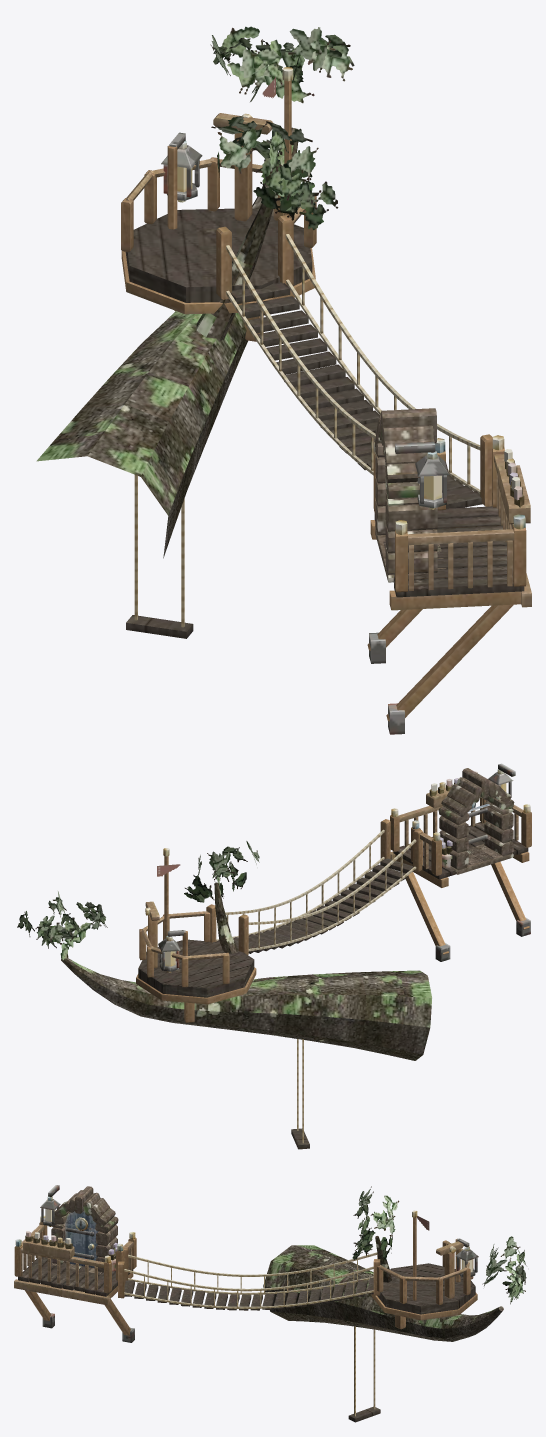
Rendered from balcony.glb.
3 views of the same model, one above another, from view 1: azimuth 30°, elevation 25°; view 2: azimuth 150°, elevation 25°; view 3: azimuth 270°, elevation 25° (orthographic). The views are drawn at different scales.
Parts seen in each view (by area): view 1: tile_wood, tile_bark, solid, card, tile_stone; view 2: tile_wood, tile_bark, solid, tile_stone, card; view 3: tile_wood, tile_bark, solid, card, tile_stone.
Boxes of the visible parts, left/top/right/bottom form: tile_wood: left=121, top=80, right=531, bottom=721; tile_bark: left=36, top=127, right=298, bottom=558; solid: left=134, top=67, right=525, bottom=734; card: left=210, top=26, right=354, bottom=230; tile_stone: left=375, top=408, right=446, bottom=582; tile_wood: left=136, top=788, right=531, bottom=1149; tile_bark: left=61, top=883, right=431, bottom=1060; solid: left=145, top=763, right=530, bottom=1143; tile_stone: left=438, top=768, right=514, bottom=874; card: left=17, top=841, right=259, bottom=960; tile_wood: left=14, top=1217, right=477, bottom=1422; tile_bark: left=263, top=1236, right=503, bottom=1341; solid: left=15, top=1185, right=478, bottom=1416; card: left=352, top=1186, right=526, bottom=1304; tile_stone: left=51, top=1186, right=118, bottom=1274.
Bounding box in the file's own units: 122 × 111 × 202.
4 materials, 4 textured.
